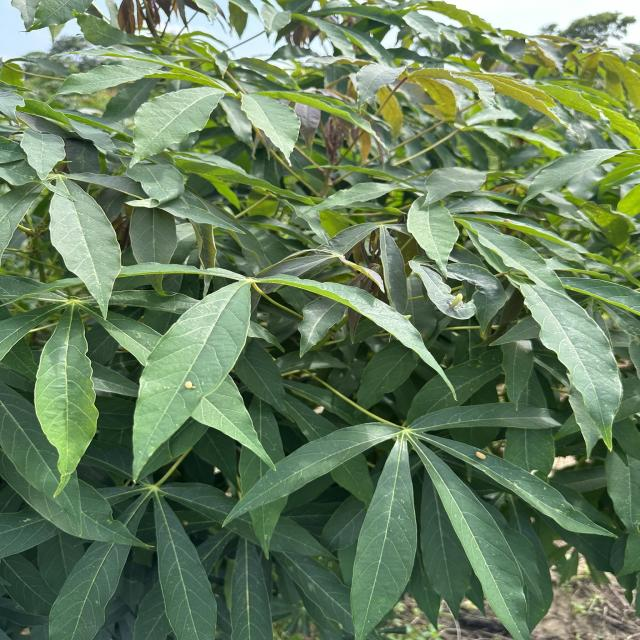Mosca: (445, 287, 466, 316), (467, 443, 489, 462), (178, 373, 198, 390)
